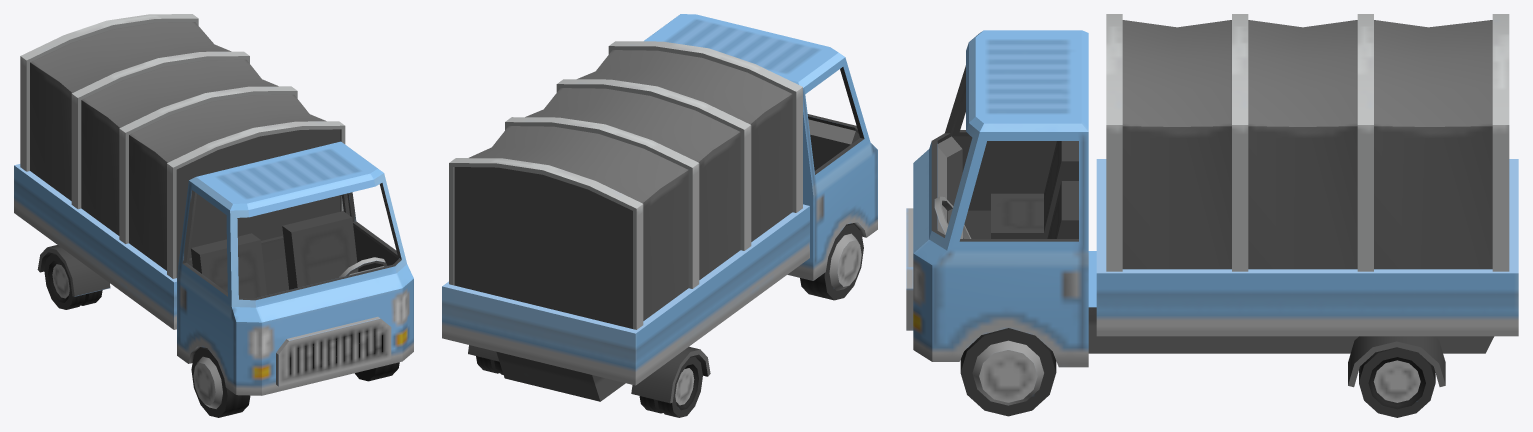
The model's file is Truck_001.FBX.
3 views of the same model, side by side, from view 1: azimuth 30°, elevation 25°; view 2: azimuth 150°, elevation 25°; view 3: azimuth 270°, elevation 25° (orthographic). The views are drawn at different scales.
Parts seen in each view (by area): view 1: Truck_001, Truck_001_Right_Wheel, Truck_001_Rear_Wheel, Truck_001_Left_Wheel; view 2: Truck_001, Truck_001_Right_Wheel, Truck_001_Rear_Wheel; view 3: Truck_001, Truck_001_Left_Wheel, Truck_001_Rear_Wheel.
Part boxes in pixels (x1,y1,x2,y2): Truck_001: (14,14,413,395); Truck_001_Right_Wheel: (191,347,250,417); Truck_001_Rear_Wheel: (44,253,102,309); Truck_001_Left_Wheel: (355,362,399,381); Truck_001: (442,14,877,403); Truck_001_Right_Wheel: (800,223,863,300); Truck_001_Rear_Wheel: (476,356,702,417); Truck_001: (906,14,1518,387); Truck_001_Left_Wheel: (960,328,1056,416); Truck_001_Rear_Wheel: (1359,347,1435,417).
Bounding box in the file's own units: 178 × 385 × 215.
